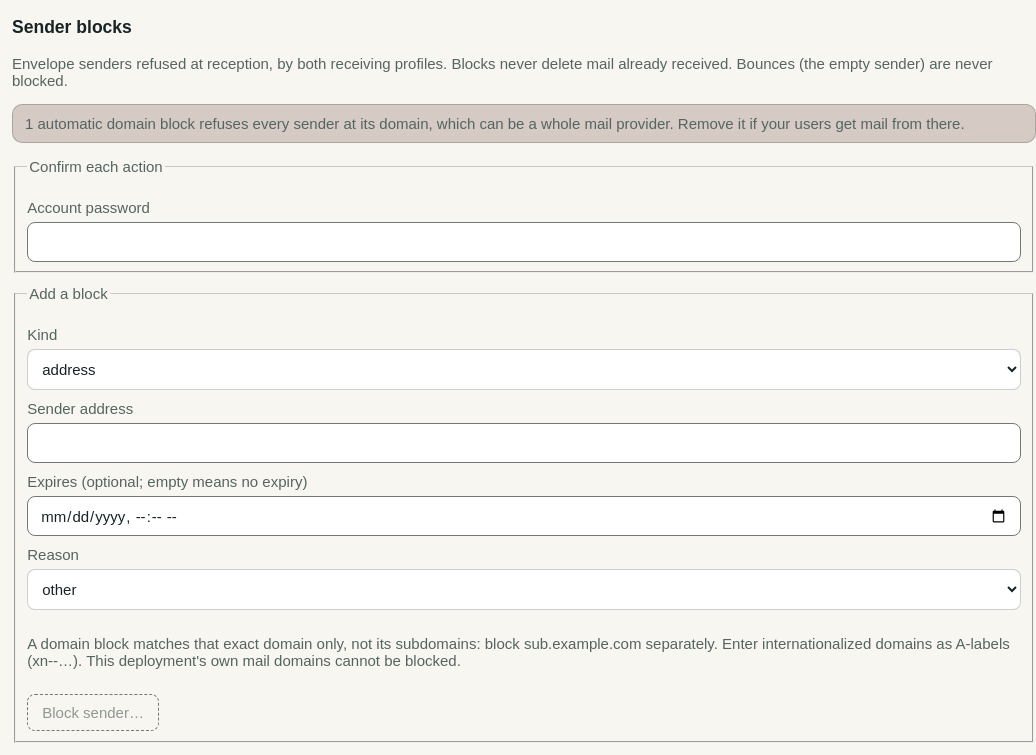
Test: locks when a success answer names another block
In the password field labelled "Account password": (524, 242) [27, 222, 1021, 262], type "account-secret"
(page scrolled)
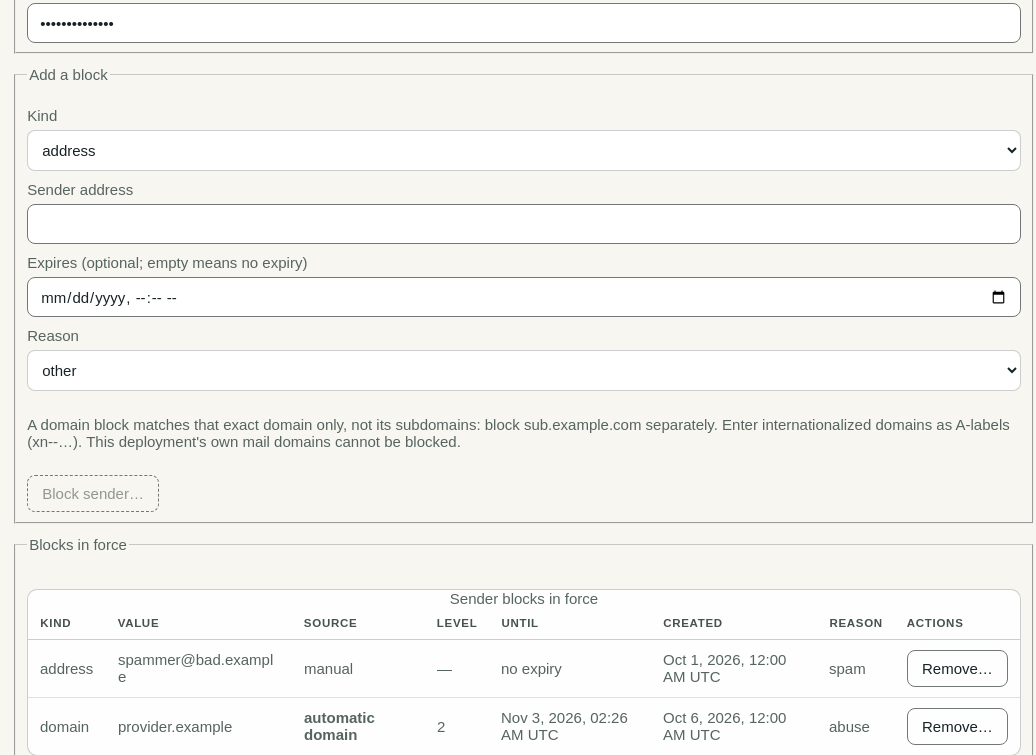
Click the button with aria-label "Remove address block spammer@bad.example": (957, 668) [907, 650, 1008, 687]
(page scrolled)
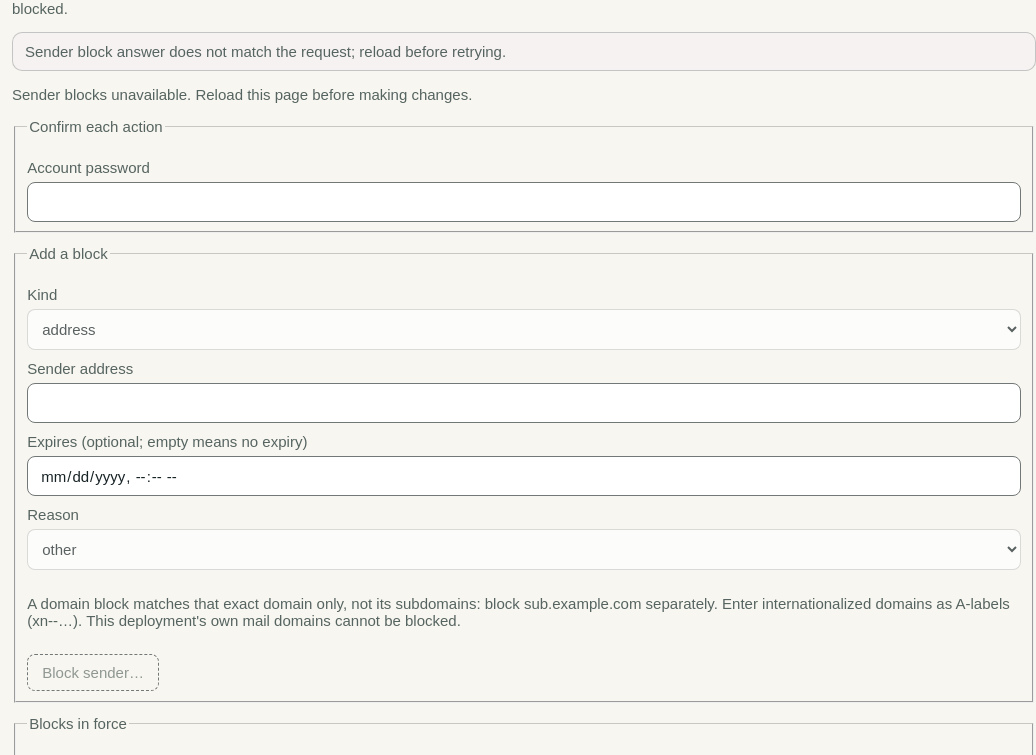
expect the message shows "does not match the request": met, box [25, 43, 506, 60]
expect the element "Confirm each action" is disabled: met, box [14, 118, 1034, 234]
